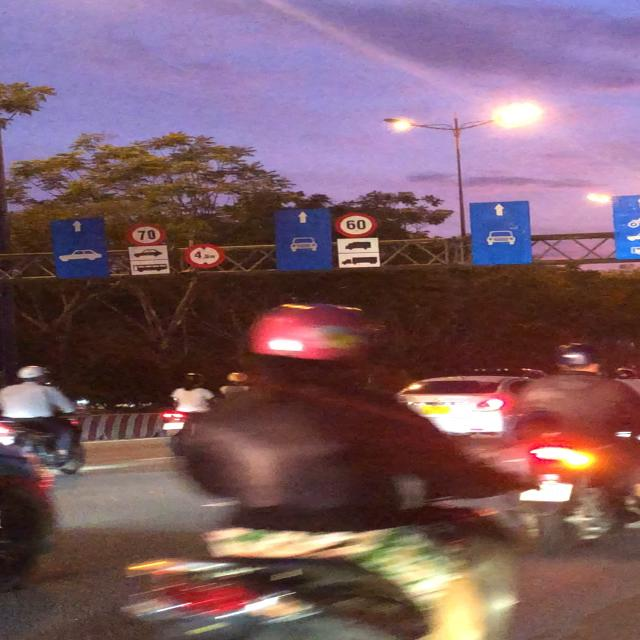Bien bao han che chieu cao: (180, 242, 226, 270)
Bien bao toc do toi da cho phep: (332, 210, 381, 238), (125, 221, 169, 248)
